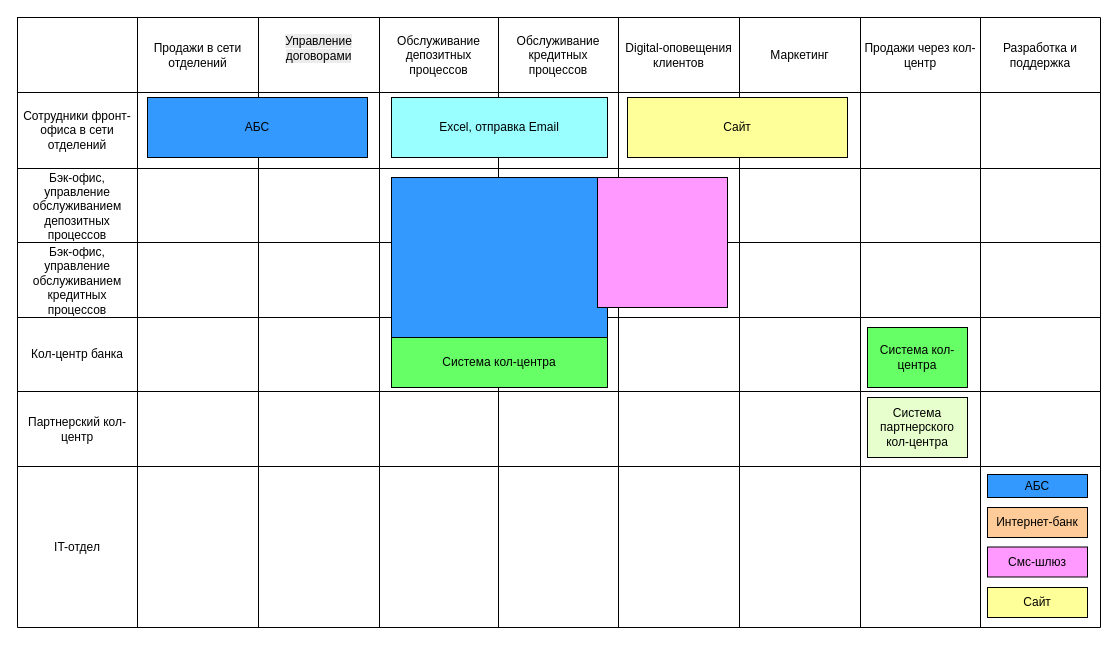
Some shapes in this 1118 by 645 pixel diagram are drawn without their labels. The shapes that lost their labels are listed below. From the top down, each one's centre as x and y in pixels, then its label:
At point (499, 257): "АБС, Excel, Email".
At point (662, 242): "Отправка СМС".
